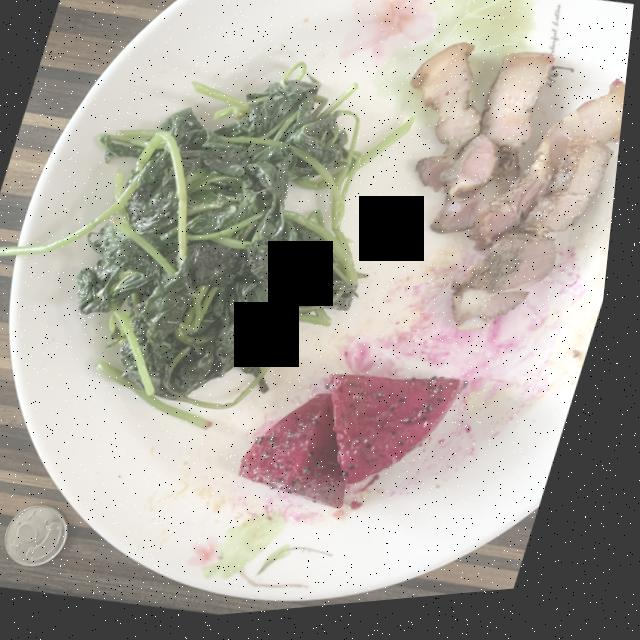coin: (16, 507, 79, 568)
grilled pork: (413, 51, 629, 339)
sweet potato leaves: (0, 67, 416, 430)
